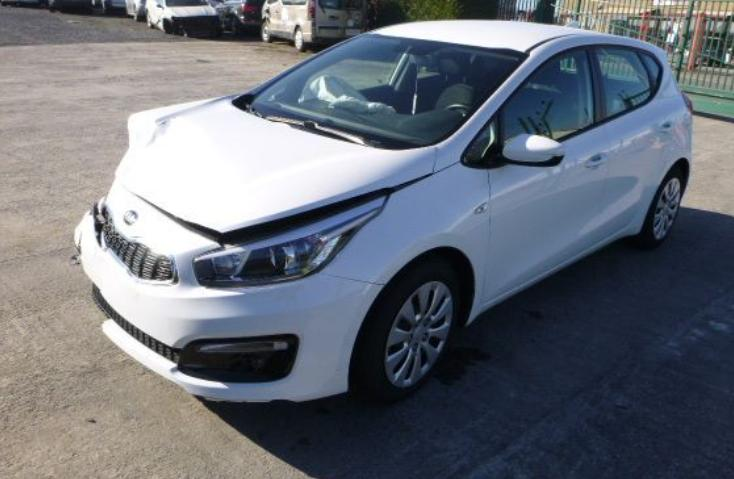Back-door: (593, 43, 676, 231)
Back-wheel: (641, 172, 685, 247)
Back-window: (593, 44, 661, 118)
Fender: (325, 162, 489, 309)
Front-bumper: (73, 172, 383, 401)
Front-door: (463, 46, 609, 301)
Front-wheel: (355, 251, 469, 399)
Front-window: (502, 46, 599, 141)
Grille: (95, 198, 176, 278)
Headlight: (196, 200, 384, 287)
Hood: (116, 91, 436, 234)
Mirror: (462, 108, 563, 172)
Quarter-panel: (657, 69, 693, 174)
Rocker-panel: (469, 214, 642, 324)
Roof: (373, 21, 616, 52)
Tail-light: (685, 94, 695, 113)
Windshield: (228, 30, 529, 151)
